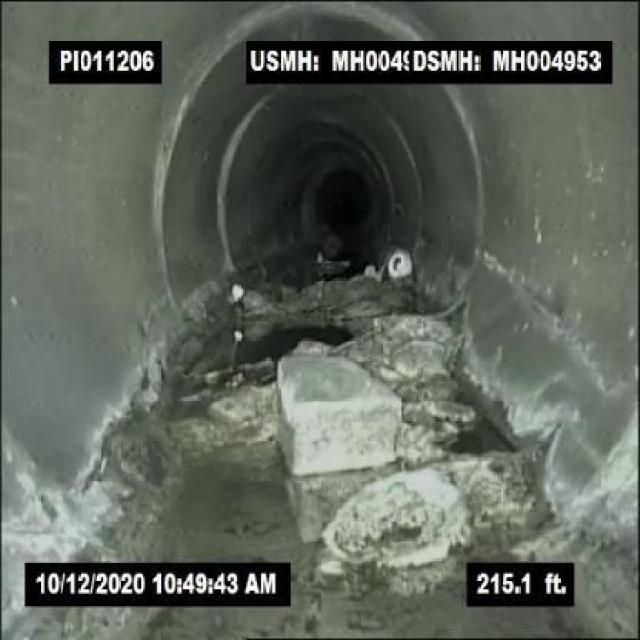Crack: (540, 297, 629, 395), (484, 252, 544, 314)
Obstacle: (330, 458, 536, 568), (276, 348, 404, 475)
